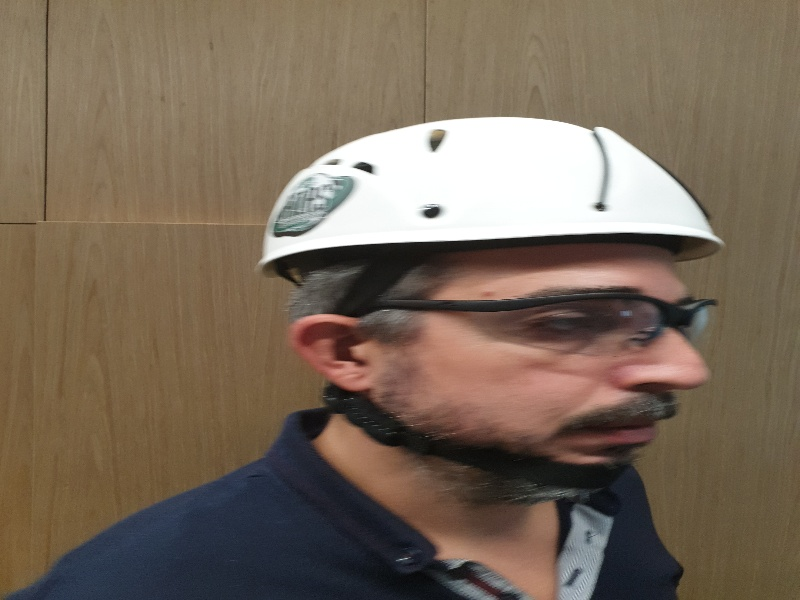Baret: (258, 116, 724, 249)
Gozluk: (373, 292, 717, 365)
